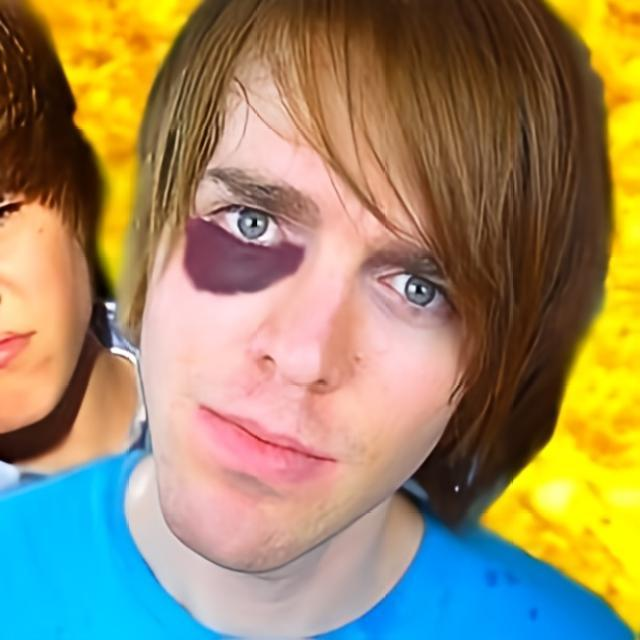content: (140, 8, 483, 577)
